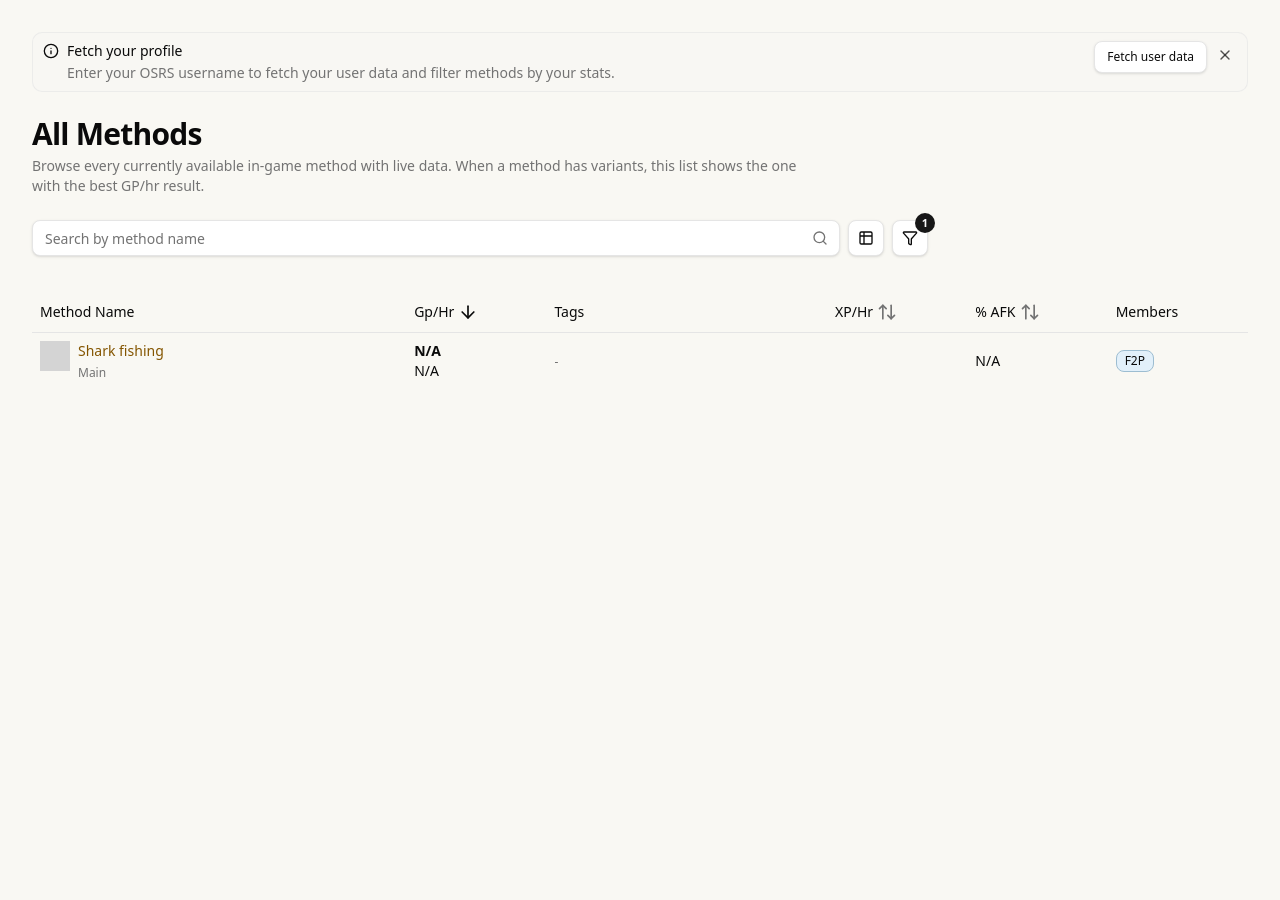
Test: critical flow: list render + filters › disables the username-data switch when no username is available
The width and height of the screenshot is (1280, 900).
Expected: the link "Shark fishing" is shown, [78,340,164,360]
Click the button named "show filters" at (910, 238), box [892,220,928,256]
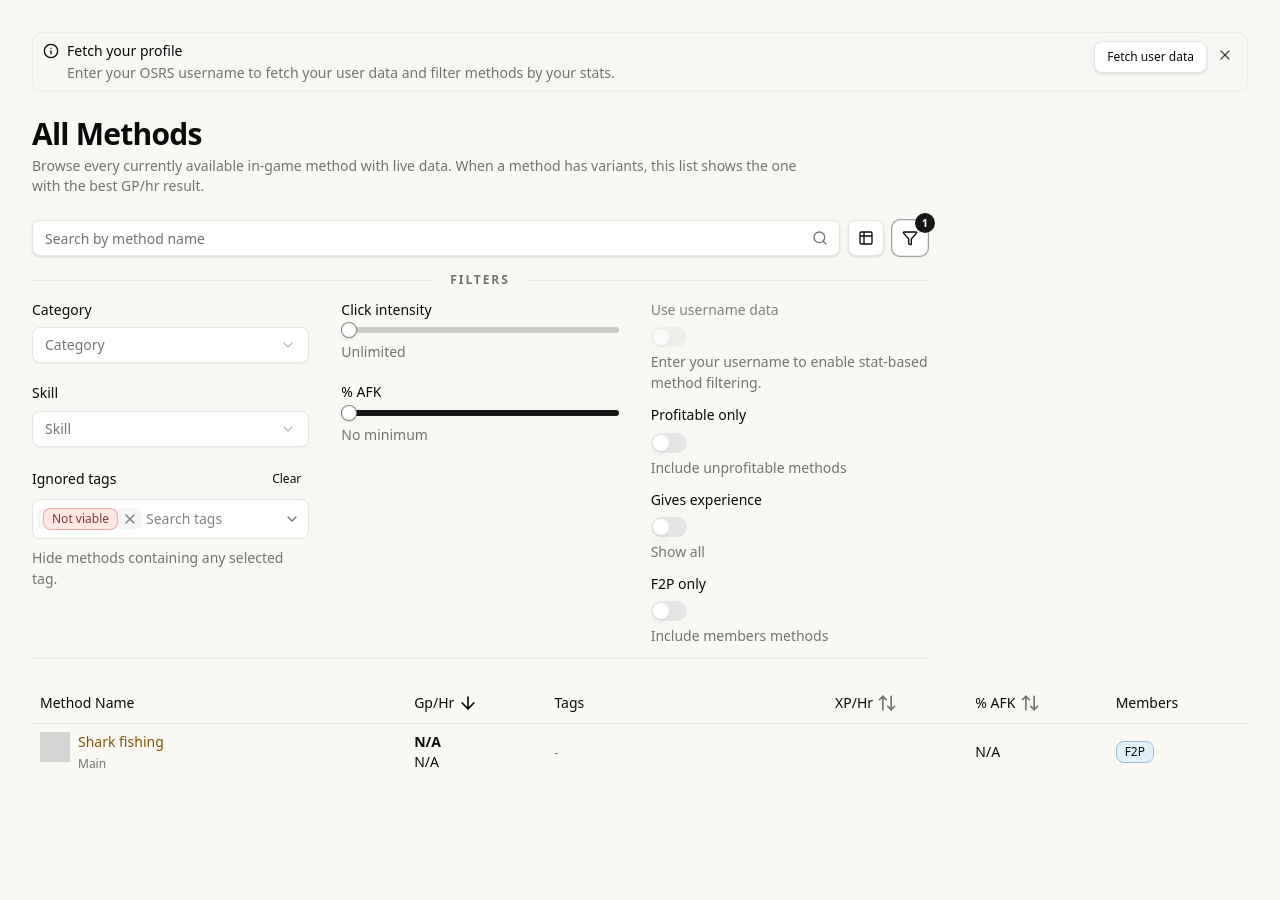
Expected: the text "Enter your username to enable stat-based method filtering." is shown, [651,351,928,393]
